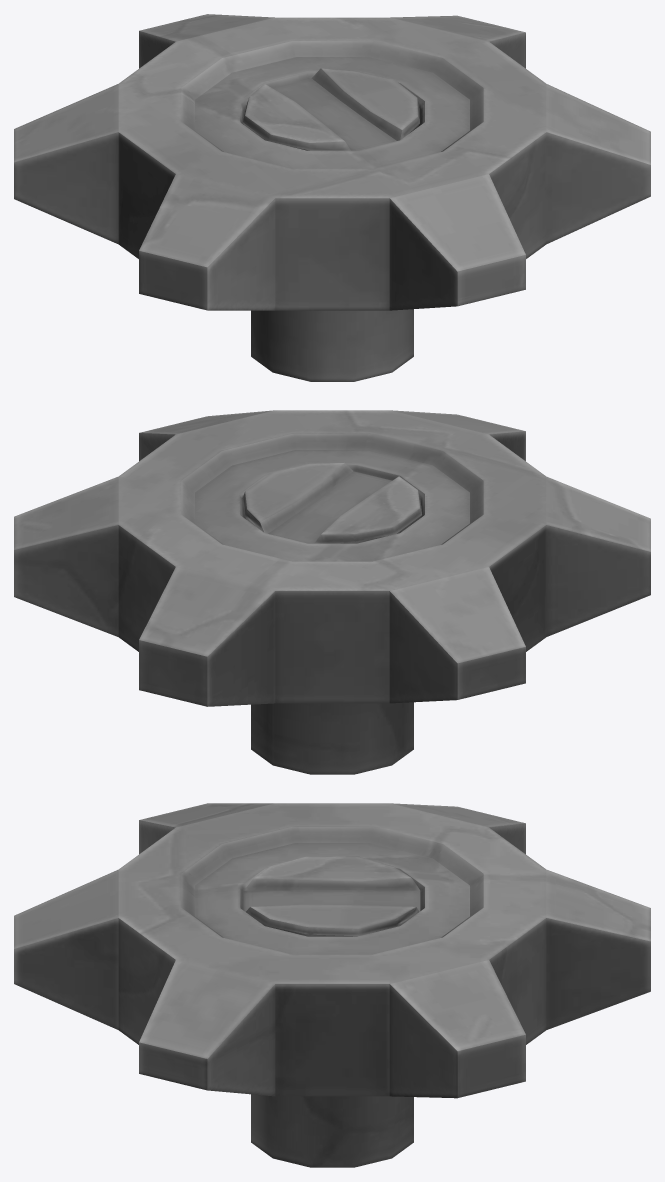
File: obj_gear07_alt.gltf
The picture shows the model from 3 angles, top to bottom: view 1: azimuth 30°, elevation 25°; view 2: azimuth 150°, elevation 25°; view 3: azimuth 270°, elevation 25°; orthographic projection.
Parts seen in each view (by area): view 1: obj_gear07_alt; view 2: obj_gear07_alt; view 3: obj_gear07_alt.
Boxes of the visible parts, x1,y1,x2,y2 form: obj_gear07_alt: (14, 14, 650, 381); obj_gear07_alt: (14, 410, 650, 774); obj_gear07_alt: (14, 803, 650, 1167).
Size of what is drawn, in the model's own units: 0.3121 by 0.1413 by 0.3363.
Materials: 1 (1 with a texture image).
